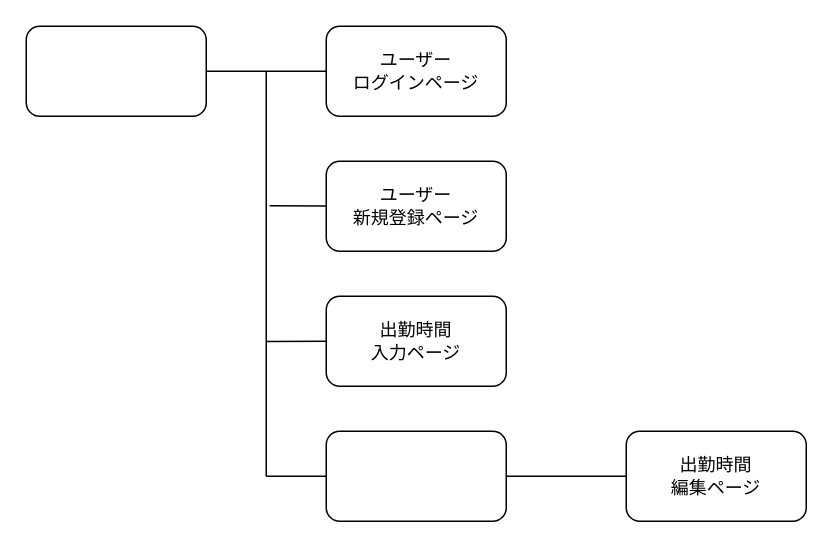
Some shapes in this 833 by 548 pixel diagram are drawn without their labels. Here are the shapes that lost their labels. From the top down, the centre of each, then its label:
point (115, 70): カレンダー 一覧ページ
point (415, 475): 出勤時間 詳細ページ
